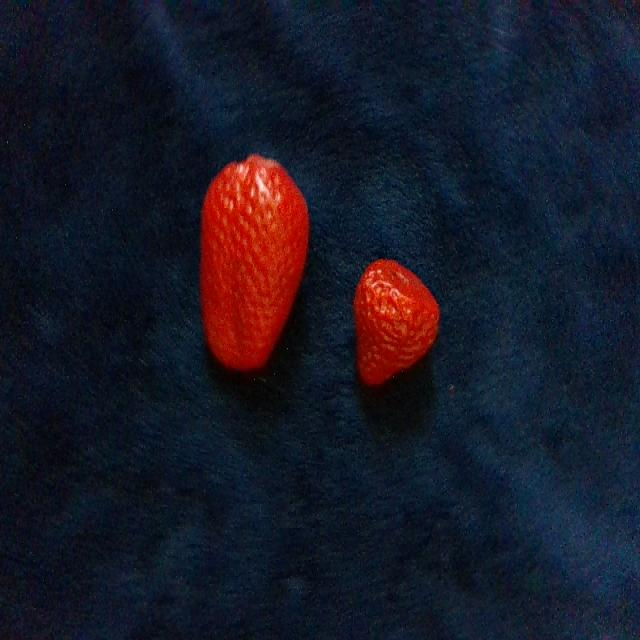chica_roja: (356, 261, 438, 384)
grande_roja: (201, 155, 308, 367)
